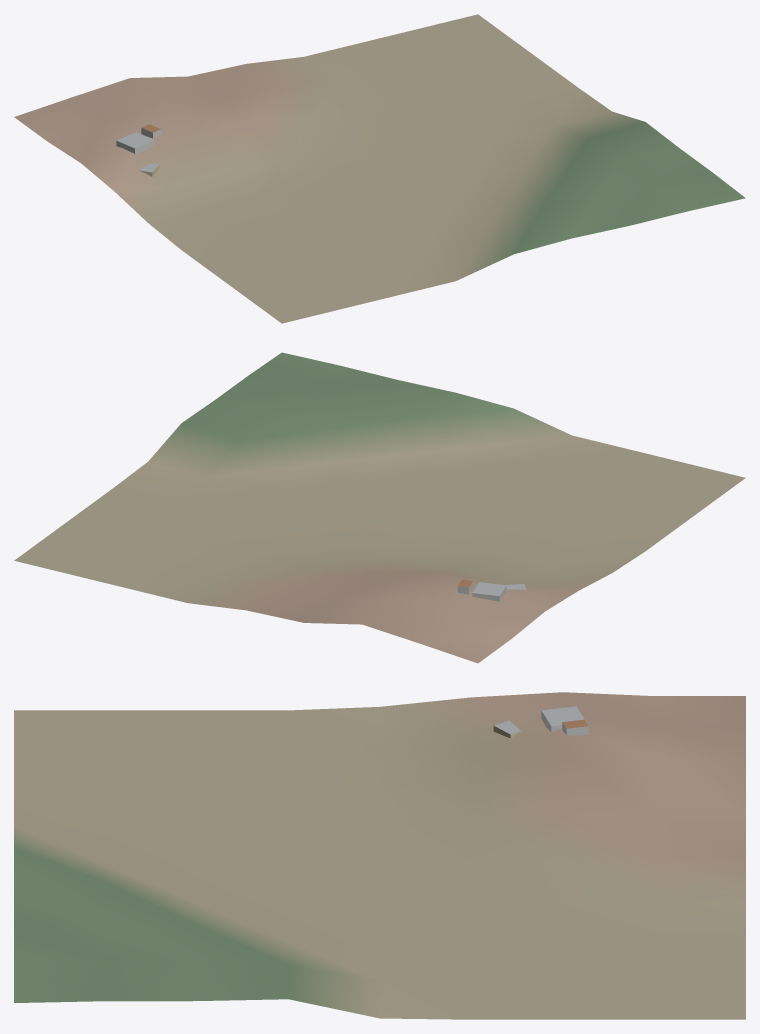
3 views of the same model, one above another, from view 1: azimuth 30°, elevation 25°; view 2: azimuth 150°, elevation 25°; view 3: azimuth 270°, elevation 25° (orthographic). The views are drawn at different scales.
Visible parts, largest first — view 1: Lo; view 2: Lo; view 3: Lo.
Boxes of the visible parts, box(x1,y1,x2,y2) form: Lo: box(14, 14, 745, 323); Lo: box(14, 352, 745, 663); Lo: box(14, 692, 745, 1019).
Size of the model in its own units: 256 by 13.97 by 256.
